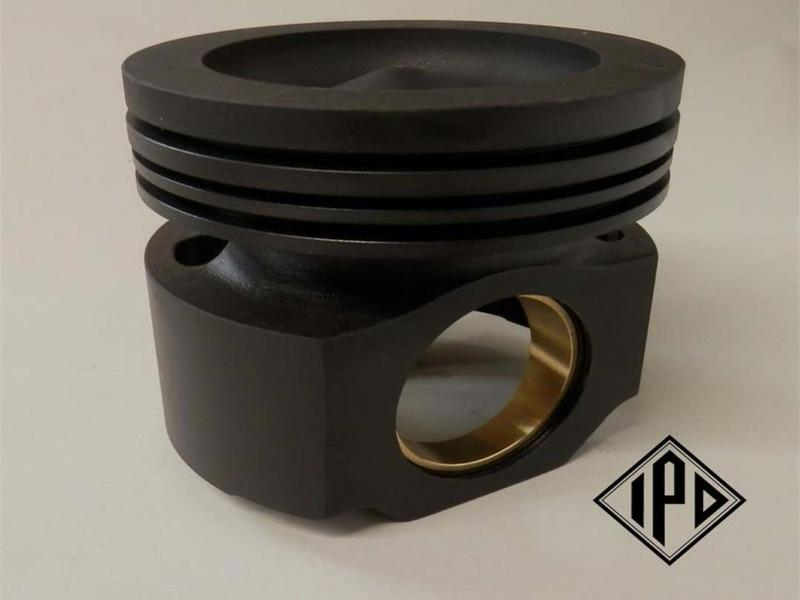piston: (119, 17, 685, 530)
